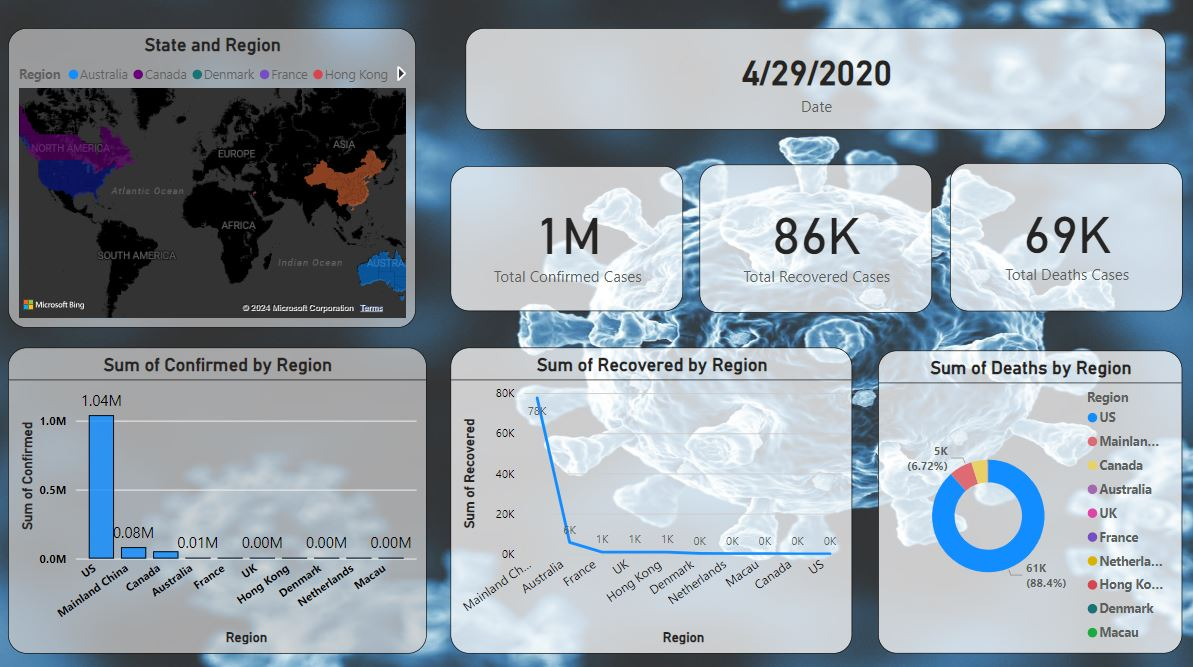

This screenshot's page, from the dashboard's own definition file:
{"tool":"powerbi","page":{"name":"Page 1","canvas":[1280,720],"ordinal":0},"visuals":[{"type":"filledMap","fields":{"Series":["New_Covid19.Region"],"Category":["New_Covid19.State"]},"box":[9.5,41.4,432.6,318.1],"z":0},{"type":"columnChart","fields":{"Category":["New_Covid19.Region"],"Y":["Sum(New_Covid19.Confirmed)"]},"box":[9.5,380.2,443.8,324.5],"z":1},{"type":"lineChart","fields":{"Category":["New_Covid19.Region"],"Y":["Sum(New_Covid19.Recovered)"]},"box":[478.8,380.2,426.3,324.5],"z":2},{"type":"donutChart","fields":{"Category":["New_Covid19.Region"],"Y":["Sum(New_Covid19.Deaths)"]},"box":[932.1,383.3,322.9,321.3],"z":3},{"type":"card","fields":{"Values":["Min(New_Covid19.Date)"]},"box":[495.1,41.6,742.7,107.7],"z":4},{"type":"card","fields":{"Values":["Sum(New_Covid19.Confirmed)"]},"box":[478.8,187.7,246.5,154.3],"z":5},{"type":"card","fields":{"Values":["Sum(New_Covid19.Deaths)"]},"box":[1008.4,184.5,246.5,157.5],"z":6},{"type":"card","fields":{"Values":["Sum(New_Covid19.Recovered)"]},"box":[742.8,186.1,246.5,157.5],"z":7}]}

Visuals, with their boxes in screenshot pixels (x1, y1, x2, y2), scaled from the page's 1280x720 canvas onto the 1193x667 screenshot:
filledMap - New_Covid19.Region x New_Covid19.State: rect(9, 38, 412, 333)
columnChart - New_Covid19.Region x Sum(New_Covid19.Confirmed): rect(9, 352, 422, 653)
lineChart - New_Covid19.Region x Sum(New_Covid19.Recovered): rect(446, 352, 844, 653)
donutChart - New_Covid19.Region x Sum(New_Covid19.Deaths): rect(869, 355, 1170, 653)
card - Min(New_Covid19.Date): rect(461, 39, 1154, 138)
card - Sum(New_Covid19.Confirmed): rect(446, 174, 676, 317)
card - Sum(New_Covid19.Deaths): rect(940, 171, 1170, 317)
card - Sum(New_Covid19.Recovered): rect(692, 172, 922, 318)
